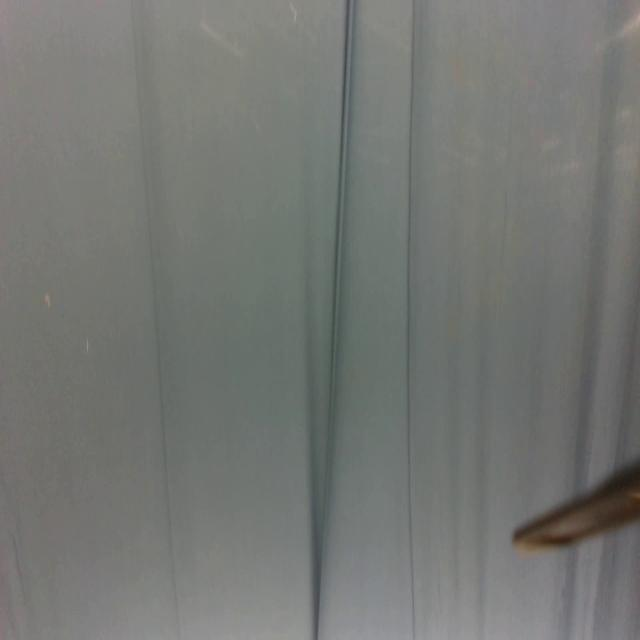crease: (132, 1, 180, 640), (316, 0, 355, 636), (402, 3, 417, 640)
hole: (42, 290, 54, 312), (84, 335, 92, 353)
